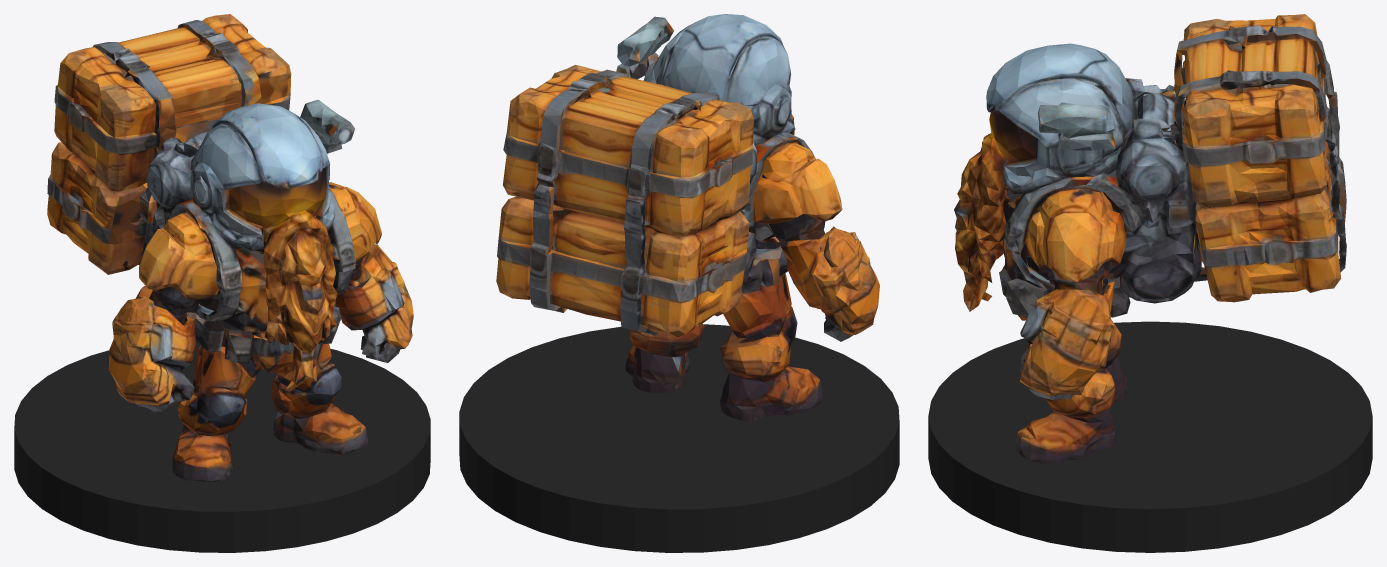
The model's file is hk-lugger.glb.
The picture shows the model from 3 angles, left to right: view 1: azimuth 30°, elevation 25°; view 2: azimuth 150°, elevation 25°; view 3: azimuth 270°, elevation 25°; orthographic projection. The views are drawn at different scales.
Visible parts, largest first — view 1: figure, base; view 2: figure, base; view 3: figure, base.
Boxes of the visible parts, x1,y1,x2,y2 form: figure: [47, 14, 413, 481]; base: [14, 341, 430, 552]; figure: [496, 14, 879, 421]; base: [459, 324, 899, 552]; figure: [954, 14, 1346, 463]; base: [928, 321, 1372, 552].
Bounding box in the file's own units: 1.1 × 1.12 × 1.1.
2 materials, 1 textured.
